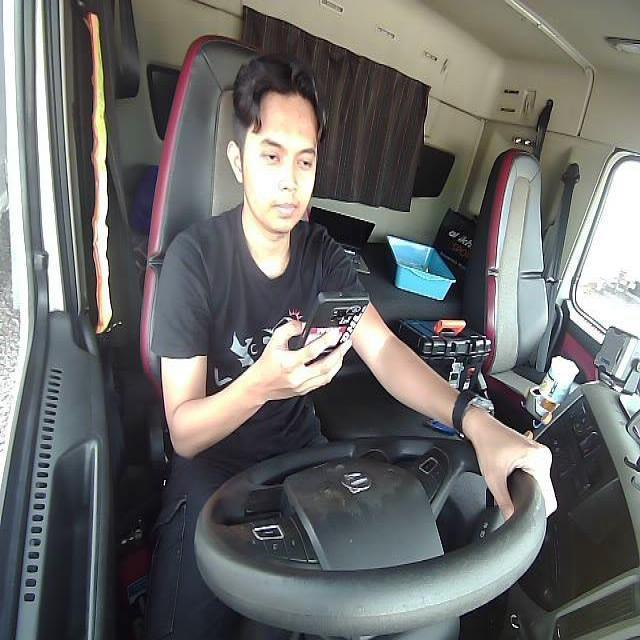phone: (296, 290, 371, 357)
